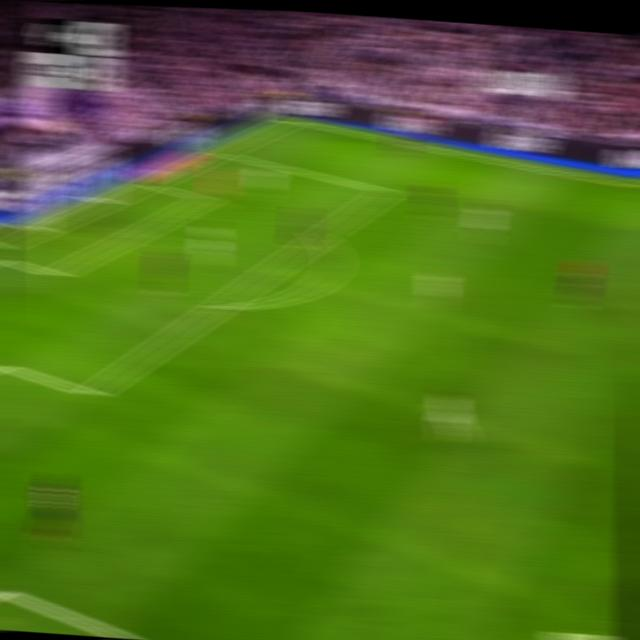bigarea_bottom_inner: (79, 379, 104, 406)
bigarea_top_inner: (376, 182, 396, 197)
bottom_arc_area_intersection: (210, 293, 232, 316)
corner: (280, 114, 302, 124)
smallarea_bottom_inner: (44, 263, 66, 283)
smallarea_top_inner: (195, 191, 214, 205)
smallarea_top_outter: (211, 143, 232, 158)
top_arc_area_intersection: (309, 227, 332, 245)
